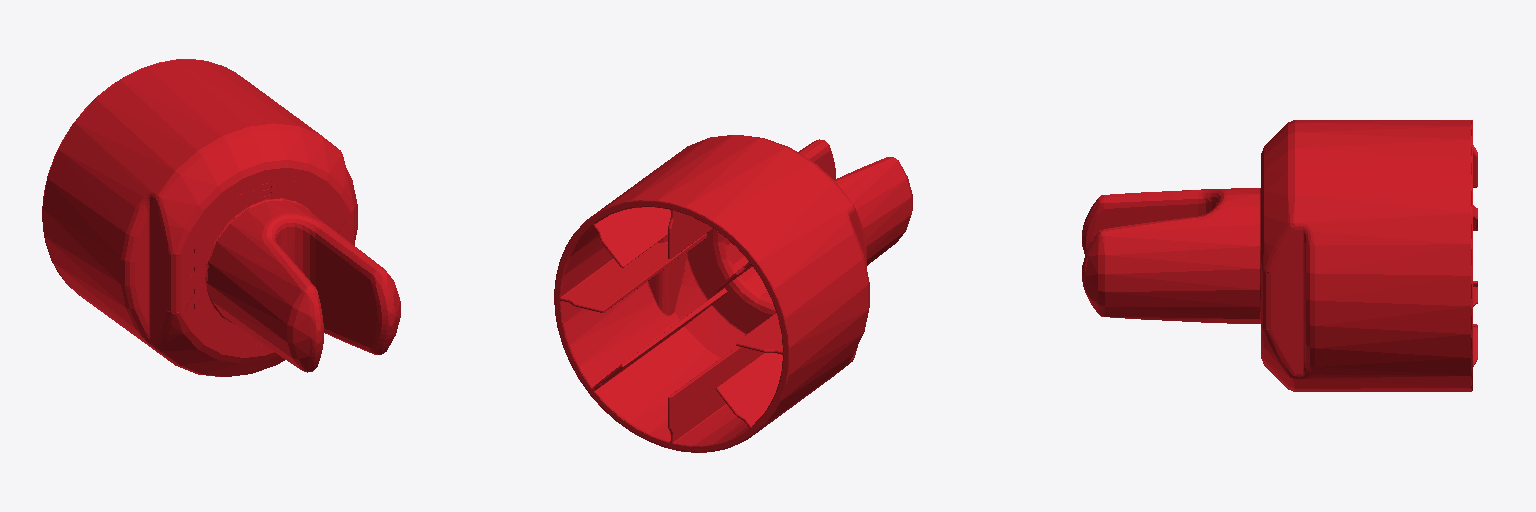
File: VIQRC-MixAndMatch-H2H-_-GameObjects_RedPin.obj
3 views of the same model, side by side, from view 1: azimuth 30°, elevation 25°; view 2: azimuth 150°, elevation 25°; view 3: azimuth 270°, elevation 25° (orthographic).
Parts seen in each view (by area): view 1: Body1; view 2: Body1; view 3: Body1.
Part boxes in pixels (x1,y1,x2,y2): Body1: (42, 59, 400, 376); Body1: (554, 135, 912, 452); Body1: (1082, 120, 1477, 391).
Size of the model in its own units: 79.86 by 80 by 116.